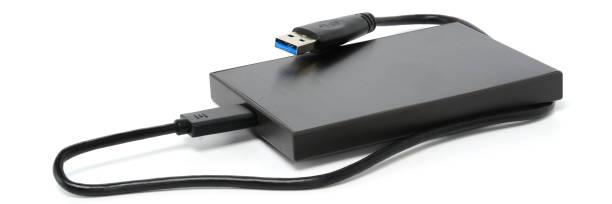HDD: (208, 22, 563, 162)
